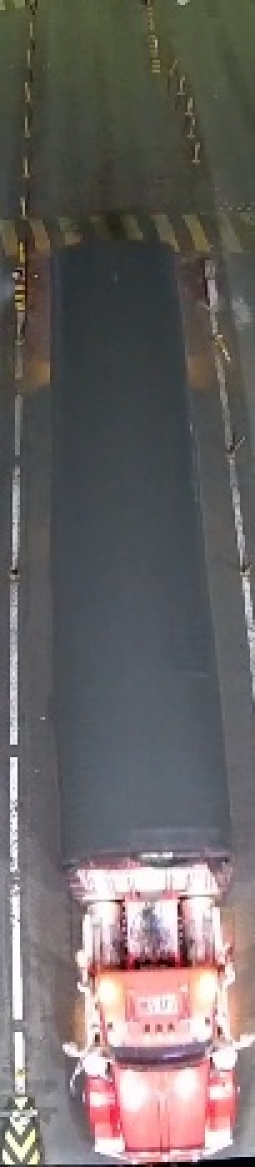truck: (13, 229, 250, 1161)
